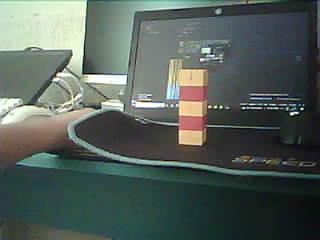lego: (178, 69, 209, 145)
